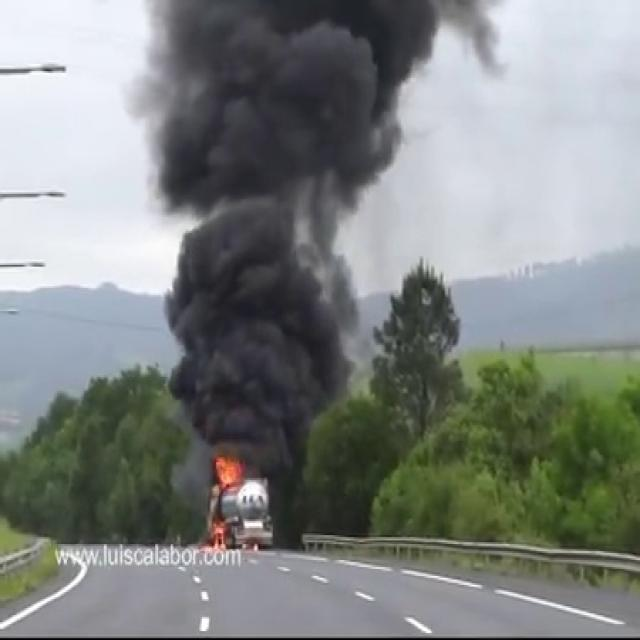Fire: (209, 449, 246, 499)
Smoke: (128, 0, 534, 503)
